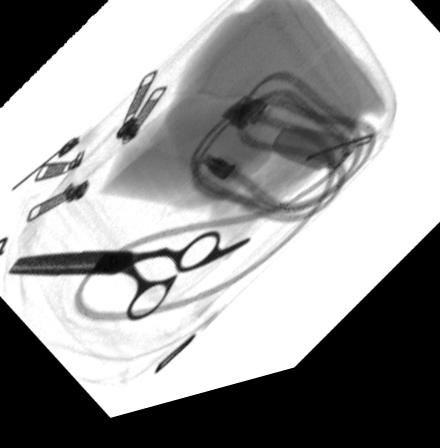Scissors: (8, 241, 252, 331)
